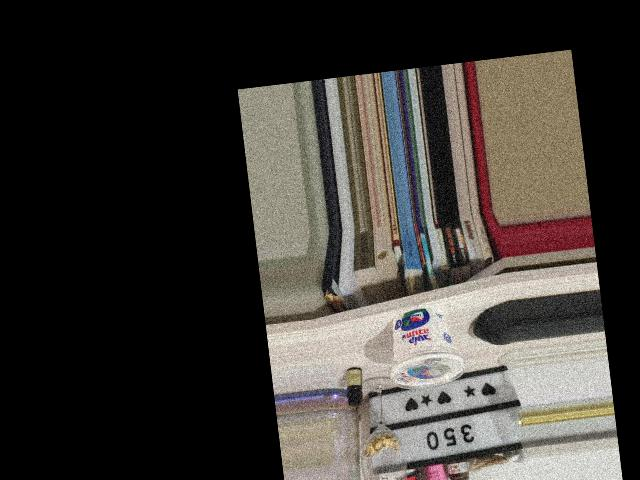cotage: (387, 299, 460, 394)
